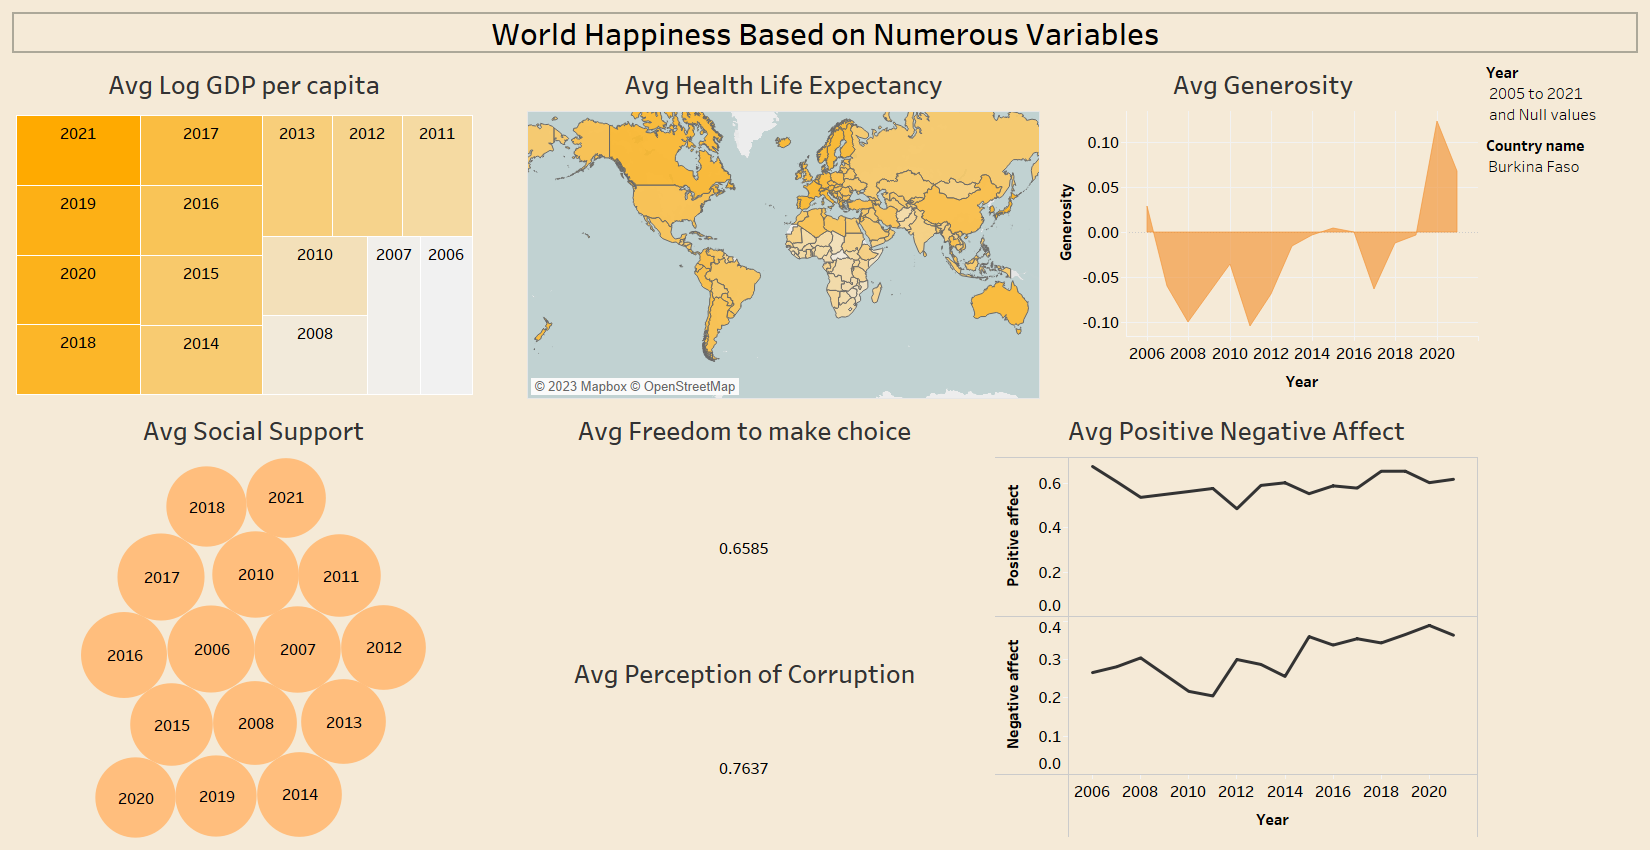

The dashboard page shown, as its layout file describes it:
{"tool":"tableau","page":{"name":"Dashboard 1","canvas":[1650,850],"ordinal":0},"visuals":[{"type":"title","box":[8,8,1634,49]},{"type":"worksheet","title":"Avg Log GDP per capita","mark":"Automatic","box":[8,57,515,346.4]},{"type":"worksheet","title":"Avg Health life expectancy ","mark":"Automatic","box":[523,57,521,346.4]},{"type":"worksheet","title":"Avg Generosity","mark":"Area","rows":["Generosity"],"cols":["Year"],"box":[1044,57,438,346.4]},{"type":"filter","title":"Avg Positive Negative Affect","param":"[federated.1f68iv615ic6yq1eazfx40y4r3kt].[none:Year:qk]","box":[1482,57,160,73]},{"type":"filter","title":"Avg Positive Negative Affect","param":"[federated.1f68iv615ic6yq1eazfx40y4r3kt].[none:Country name:nk]","box":[1482,130,160,61]},{"type":"worksheet","title":"Avg Social Support","mark":"Circle","box":[8,403.4,491.3,438.6]},{"type":"worksheet","title":"Avg Freedom to make choice","mark":"Automatic","box":[499.3,403.4,491.3,242.4]},{"type":"worksheet","title":"Avg Positive Negative Affect","mark":"Automatic","rows":["Positive affect","Negative affect"],"cols":["Year"],"box":[990.7,403.4,491.3,438.6]},{"type":"worksheet","title":"Avg Perception of Corruption","mark":"Automatic","box":[499.3,645.7,491.3,196.3]}]}

Visuals, with their boxes in screenshot pixels (x1, y1, x2, y2), scaled from the page's 1650x850 canvas onto the 1650x850 screenshot:
title: left=8, top=8, right=1642, bottom=57
"Avg Log GDP per capita" worksheet: left=8, top=57, right=523, bottom=403
"Avg Health life expectancy " worksheet: left=523, top=57, right=1044, bottom=403
"Avg Generosity" worksheet (Area marks): left=1044, top=57, right=1482, bottom=403
"Avg Positive Negative Affect" filter: left=1482, top=57, right=1642, bottom=130
"Avg Positive Negative Affect" filter: left=1482, top=130, right=1642, bottom=191
"Avg Social Support" worksheet (Circle marks): left=8, top=403, right=499, bottom=842
"Avg Freedom to make choice" worksheet: left=499, top=403, right=991, bottom=646
"Avg Positive Negative Affect" worksheet: left=991, top=403, right=1482, bottom=842
"Avg Perception of Corruption" worksheet: left=499, top=646, right=991, bottom=842
